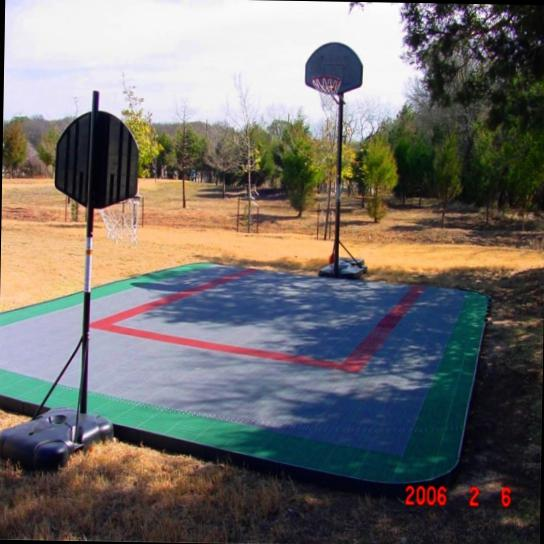basketball-hoop: (92, 190, 142, 246), (307, 74, 342, 114)
